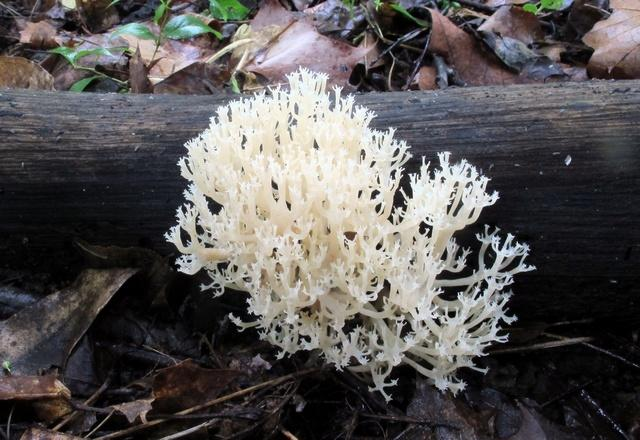Edible Mushroom: (162, 65, 536, 402)
